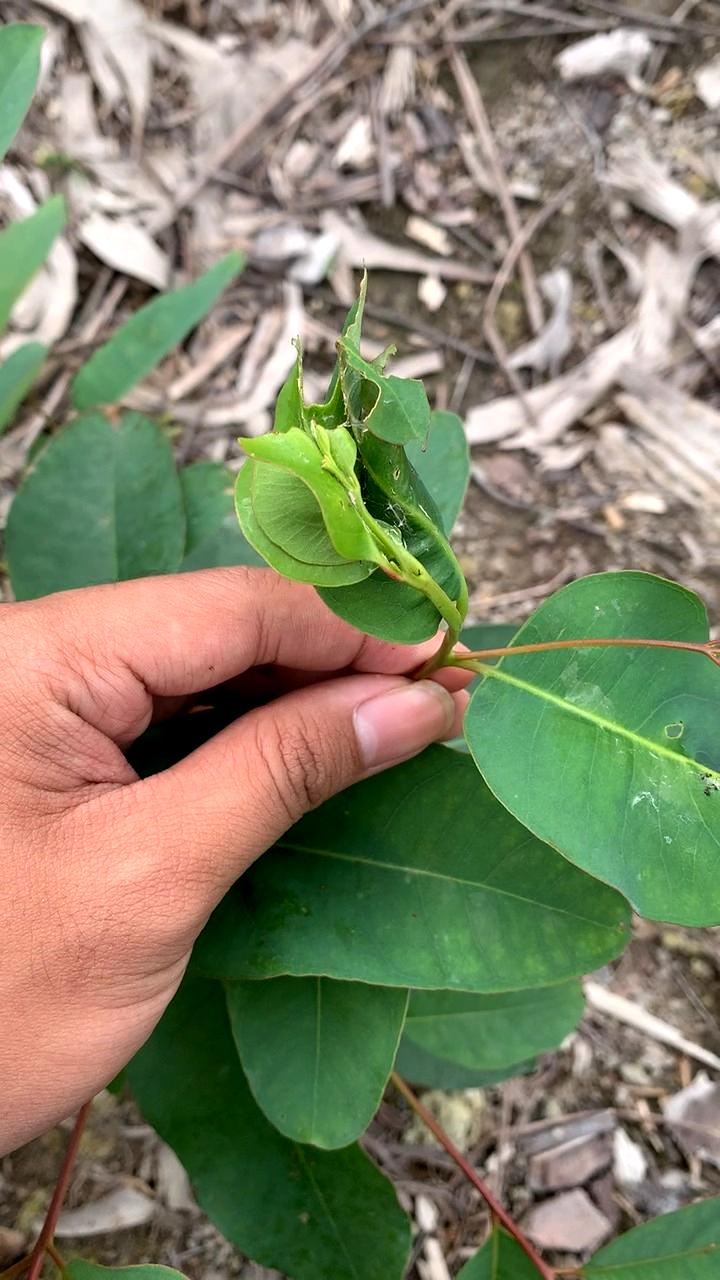Leaf Roller - Leaf: (218, 303, 495, 658)
